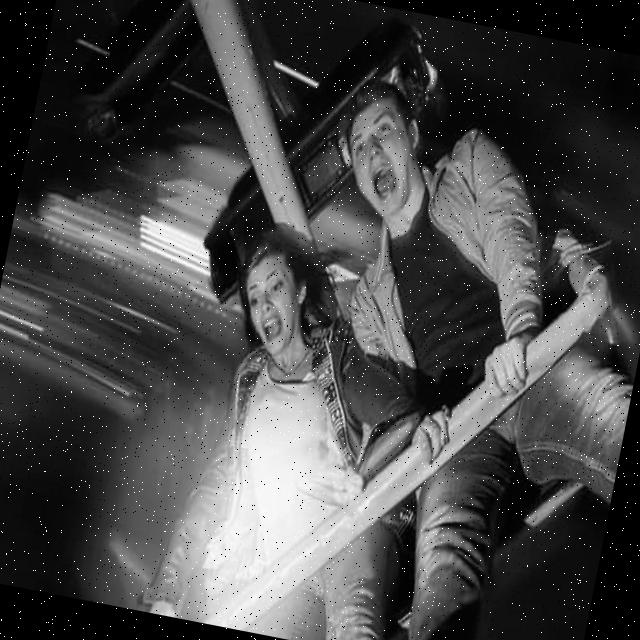Fear: (338, 99, 420, 218)
